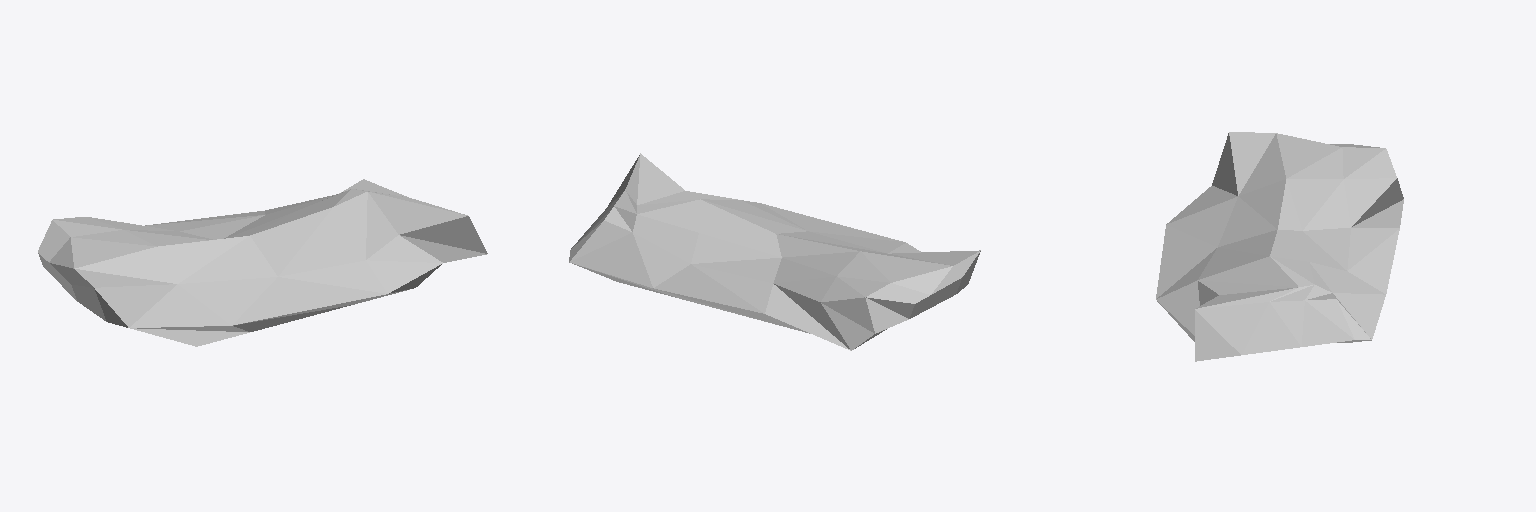
Rendered from rock_flat.obj.
3 views of the same model, side by side, from view 1: azimuth 30°, elevation 25°; view 2: azimuth 150°, elevation 25°; view 3: azimuth 270°, elevation 25° (orthographic).
Visible parts, largest first — view 1: Cube.002; view 2: Cube.002; view 3: Cube.002.
Part boxes in pixels (left/top/right/bottom): Cube.002: left=38, top=179, right=487, bottom=346; Cube.002: left=569, top=153, right=980, bottom=350; Cube.002: left=1156, top=132, right=1403, bottom=361.
Size of the model in its own units: 3.47 by 0.616 by 1.97.